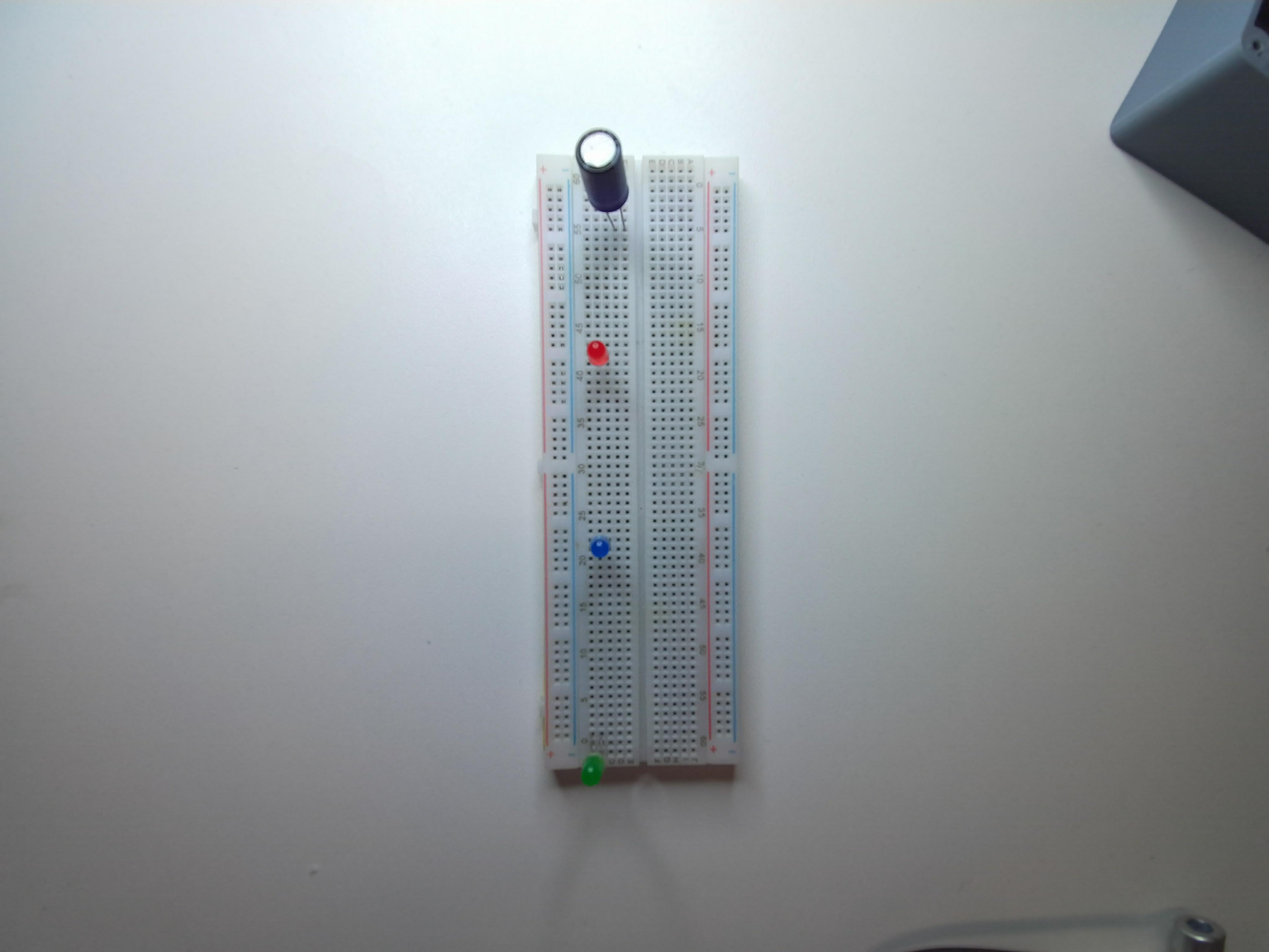base: (533, 131, 749, 797)
blue-led: (587, 532, 615, 563)
capacitor: (575, 127, 631, 215)
green-led: (575, 750, 605, 791)
red-led: (584, 337, 612, 375)
